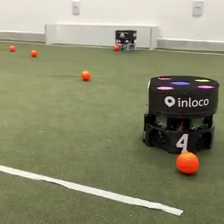ball: (175, 150, 201, 177), (80, 69, 91, 81), (30, 49, 38, 57), (113, 43, 120, 51), (9, 43, 16, 51)
goal: (45, 22, 160, 51)
robot: (141, 73, 221, 157), (114, 28, 138, 53)
